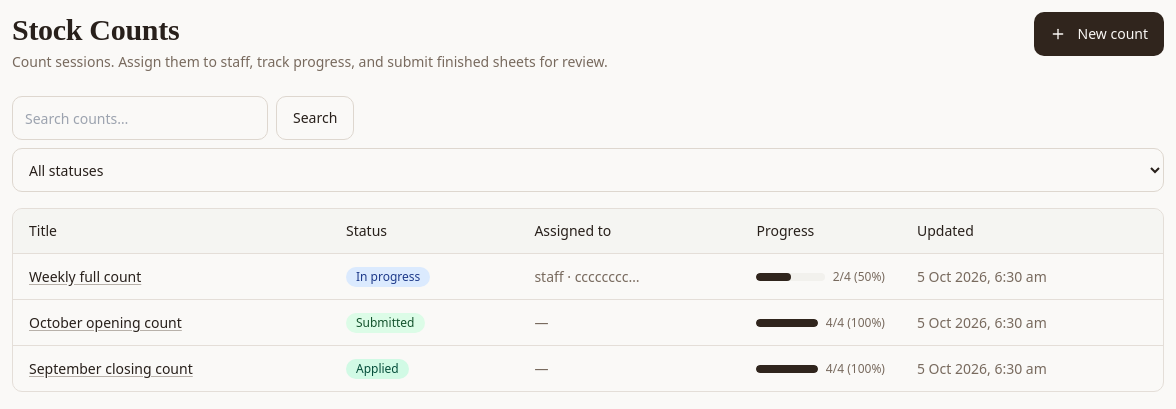
Scenario: StockCountsPage › filters by the applied status
Select "Applied" in the dropdown named "Filter by status" at {"x": 588, "y": 170}, box 12,148 -> 1164,192
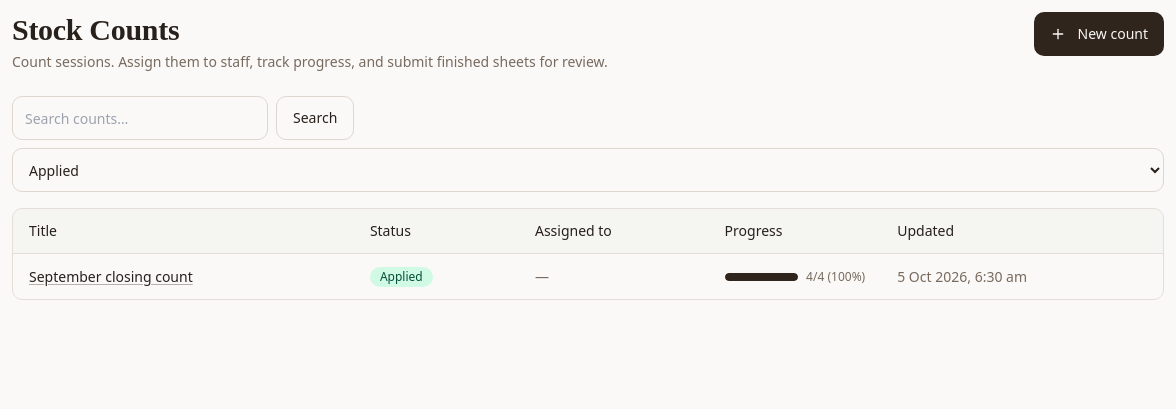
Expected: the link "September closing count" is shown, 29,266 -> 193,286
Now no links "Weekly full count" are shown
Now no links "October opening count" are shown
